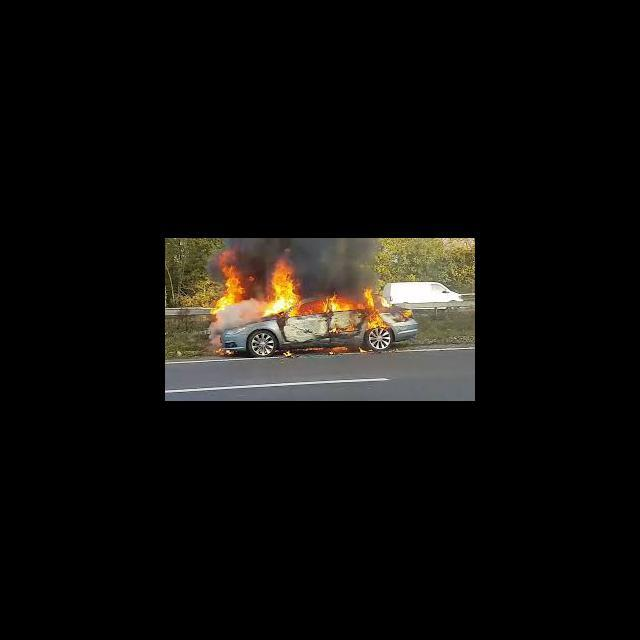Fire: (210, 250, 246, 313), (264, 257, 298, 317), (330, 289, 378, 311), (306, 346, 354, 356), (362, 314, 390, 330), (301, 298, 326, 314)
Smoke: (302, 240, 380, 288), (226, 240, 300, 248), (213, 314, 244, 326), (246, 298, 260, 319)
